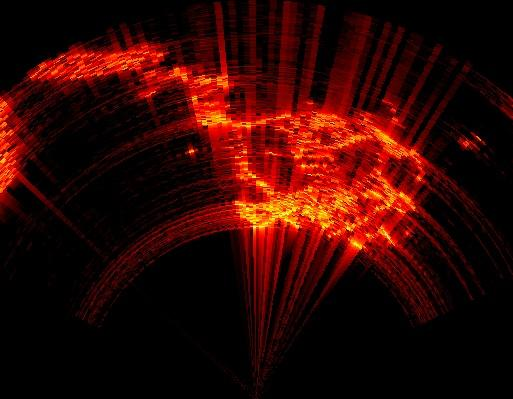shipwreck: (173, 68, 418, 244), (30, 42, 188, 97)
